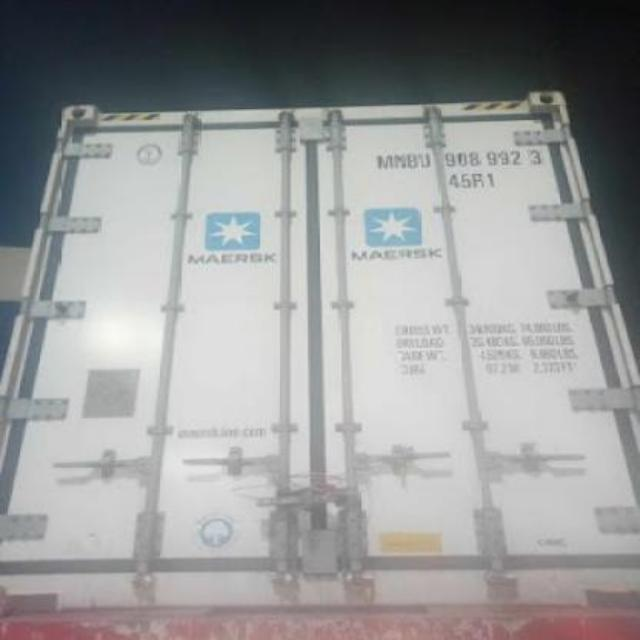0: (456, 150, 469, 168)
2: (511, 150, 524, 166)
3: (528, 149, 542, 165)
8: (468, 150, 482, 166)
9: (444, 150, 456, 168), (486, 150, 498, 166), (498, 150, 510, 166)
B: (406, 152, 419, 168)
M: (376, 153, 394, 171)
N: (392, 152, 408, 168)
U: (418, 151, 432, 169)
